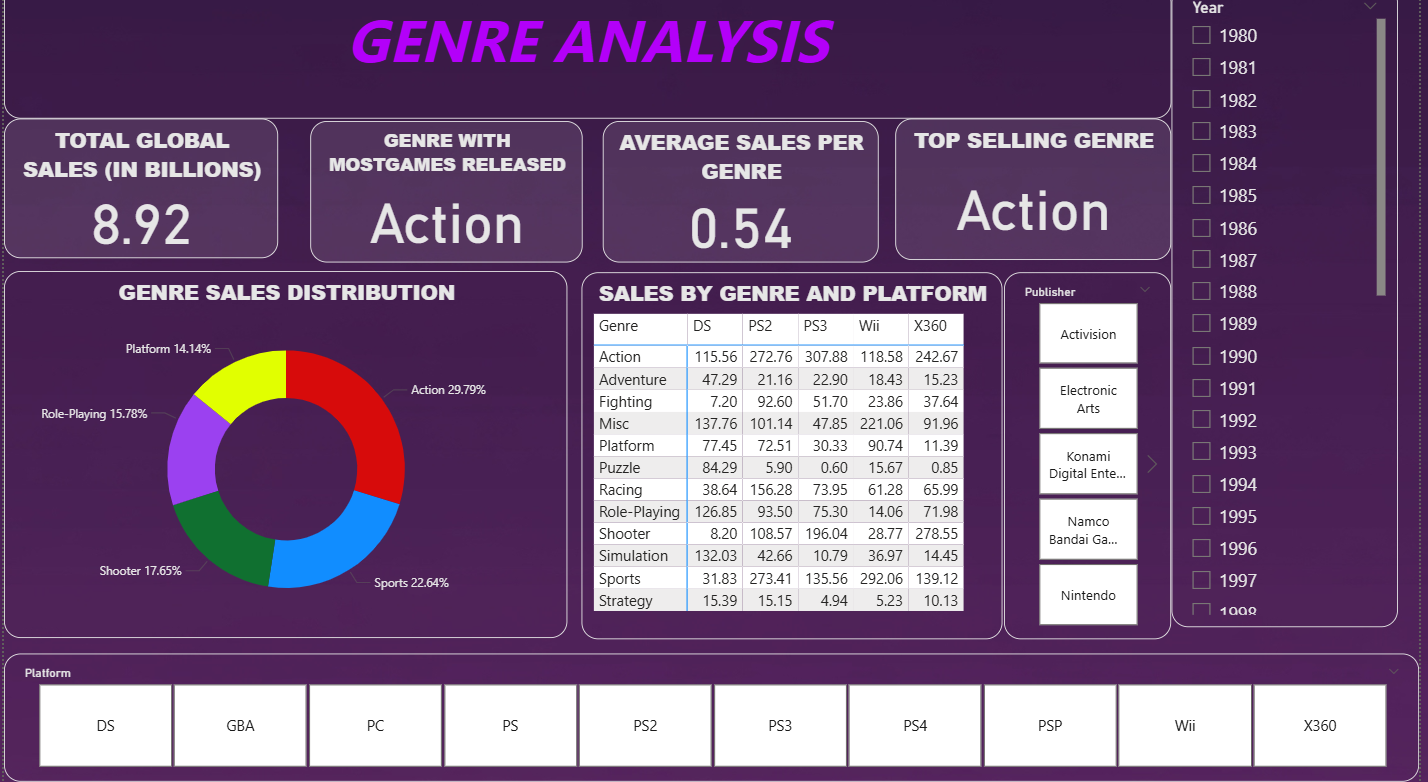

What the dashboard file says about the page in this screenshot:
{"tool":"powerbi","page":{"name":"Page 3","canvas":[1280,720],"ordinal":2},"visuals":[{"type":"card","title":"TOTAL GLOBAL SALES (IN BILLIONS)","fields":{"Values":["vgsales.TOTAL_GLOBAL_SALES"]},"box":[0,119.4,248.4,126.2],"z":0},{"type":"card","title":"TOP SELLING GENRE ","fields":{"Values":["vgsales.TOP SELLING GENERE"]},"box":[806.4,120,249.3,127.7],"z":1000},{"type":"card","title":"GENRE WITH MOSTGAMES RELEASED","fields":{"Values":["vgsales.MOST GAME GENRE"]},"box":[277,121.6,246.2,127.7],"z":2000},{"type":"card","title":"AVERAGE SALES PER GENRE","fields":{"Values":["vgsales.AVERAGE SALES PER PLATFORM"]},"box":[541.7,121.6,249.3,127.7],"z":3000},{"type":"slicer","fields":{"Values":["vgsales.Platform"]},"box":[0,603.9,1280.3,115.9],"z":4000},{"type":"donutChart","title":"GENRE SALES DISTRIBUTION","fields":{"Category":["vgsales.Genre"],"Y":["vgsales.TOTAL_GLOBAL_SALES"]},"box":[0,257.8,509.8,331.7],"z":5000},{"type":"pivotTable","title":"SALES BY GENRE AND PLATFORM","fields":{"Rows":["vgsales.Genre"],"Columns":["vgsales.Platform"],"Values":["Sum(vgsales.Global_Sales (in millions))"]},"box":[522.8,259.2,380.9,331.7],"z":6000},{"type":"slicer","fields":{"Values":["vgsales.Year"]},"box":[1056,0,204.6,580],"z":7000},{"type":"slicer","fields":{"Values":["vgsales.Publisher"]},"box":[904.8,258.5,150.8,332.4],"z":8000},{"type":"textbox","box":[0,0,1055.6,120],"z":9000}]}

Visuals, with their boxes in screenshot pixels (x1, y1, x2, y2), scaled from the page's 1280x720 canvas onto the 1428x782 screenshot:
"TOTAL GLOBAL SALES (IN BILLIONS)" card: [0,130,277,267]
"TOP SELLING GENRE " card: [900,130,1178,269]
"GENRE WITH MOSTGAMES RELEASED" card: [309,132,584,271]
"AVERAGE SALES PER GENRE" card: [604,132,882,271]
slicer - vgsales.Platform: [0,656,1427,781]
"GENRE SALES DISTRIBUTION" donutChart: [0,280,569,640]
"SALES BY GENRE AND PLATFORM" pivotTable: [583,282,1008,642]
slicer - vgsales.Year: [1178,0,1406,630]
slicer - vgsales.Publisher: [1009,281,1178,642]
textbox: [0,0,1178,130]
